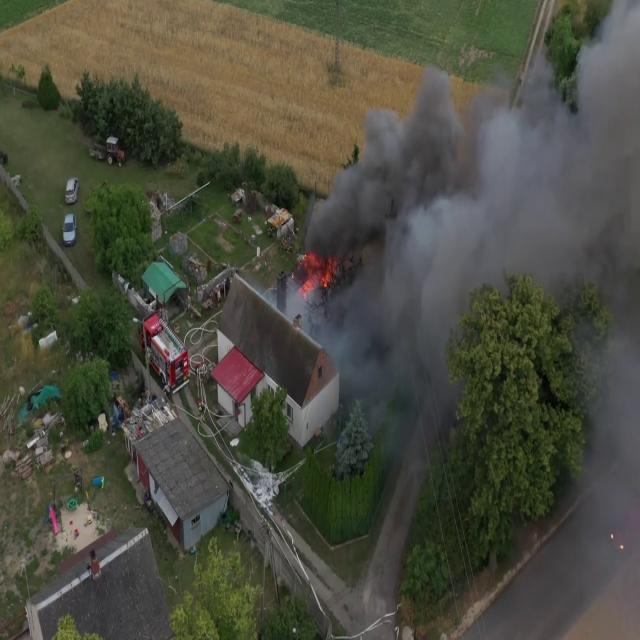Fire: (296, 245, 338, 298)
Smoke: (306, 58, 500, 448), (514, 1, 640, 532)
